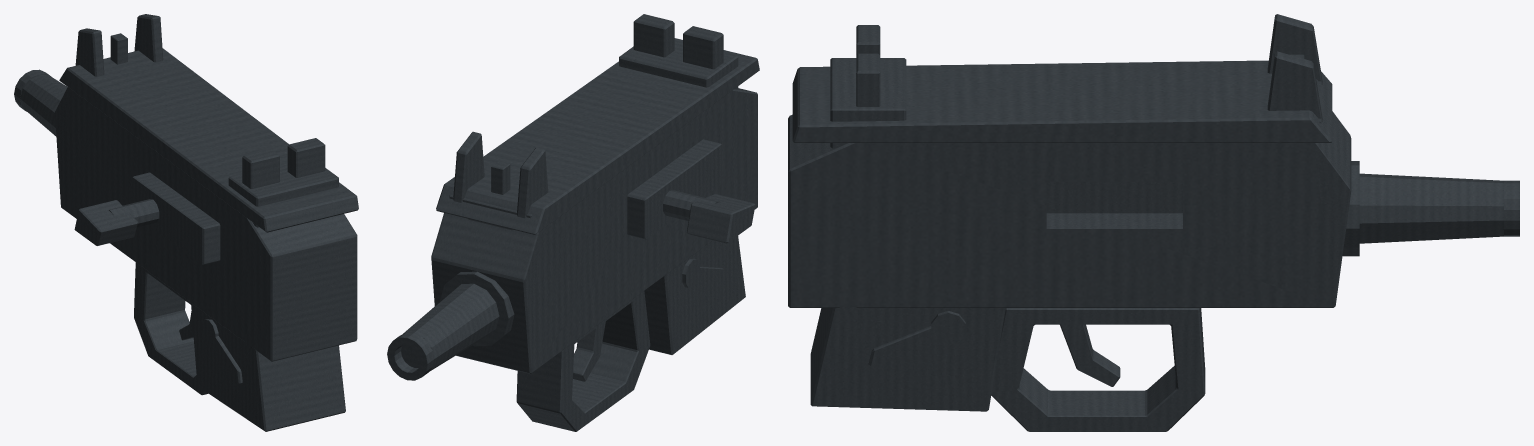
The model's file is weapon_pp91.glb.
3 views of the same model, side by side, from view 1: azimuth 30°, elevation 25°; view 2: azimuth 150°, elevation 25°; view 3: azimuth 270°, elevation 25° (orthographic). The views are drawn at different scales.
Parts seen in each view (by area): view 1: body_LOD0, action_LOD0; view 2: body_LOD0, action_LOD0; view 3: body_LOD0.
Boxes of the visible parts, x1,y1,x2,y2 form: body_LOD0: (14,14,358,431); action_LOD0: (74,172,220,264); body_LOD0: (387,14,759,431); action_LOD0: (627,139,755,243); body_LOD0: (788,14,1519,431).
Size of what is drawn, in the model's own units: 0.1305 by 0.2117 by 0.365.
Materials: 1 (1 with a texture image).
